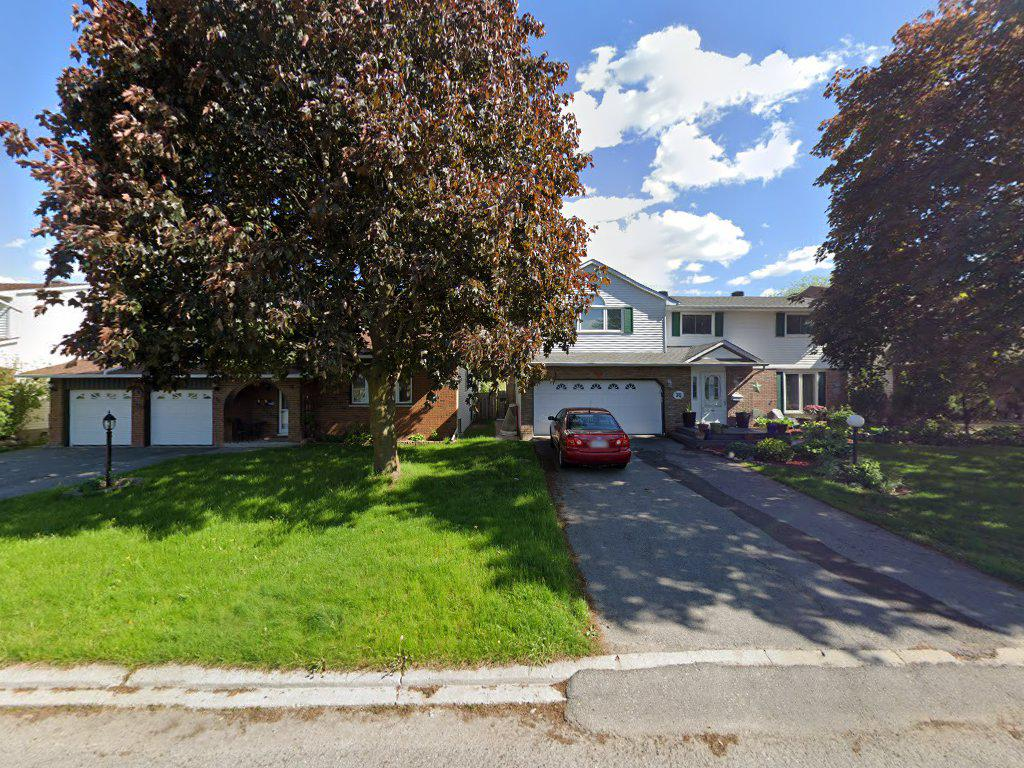trunk: (357, 365, 407, 483)
